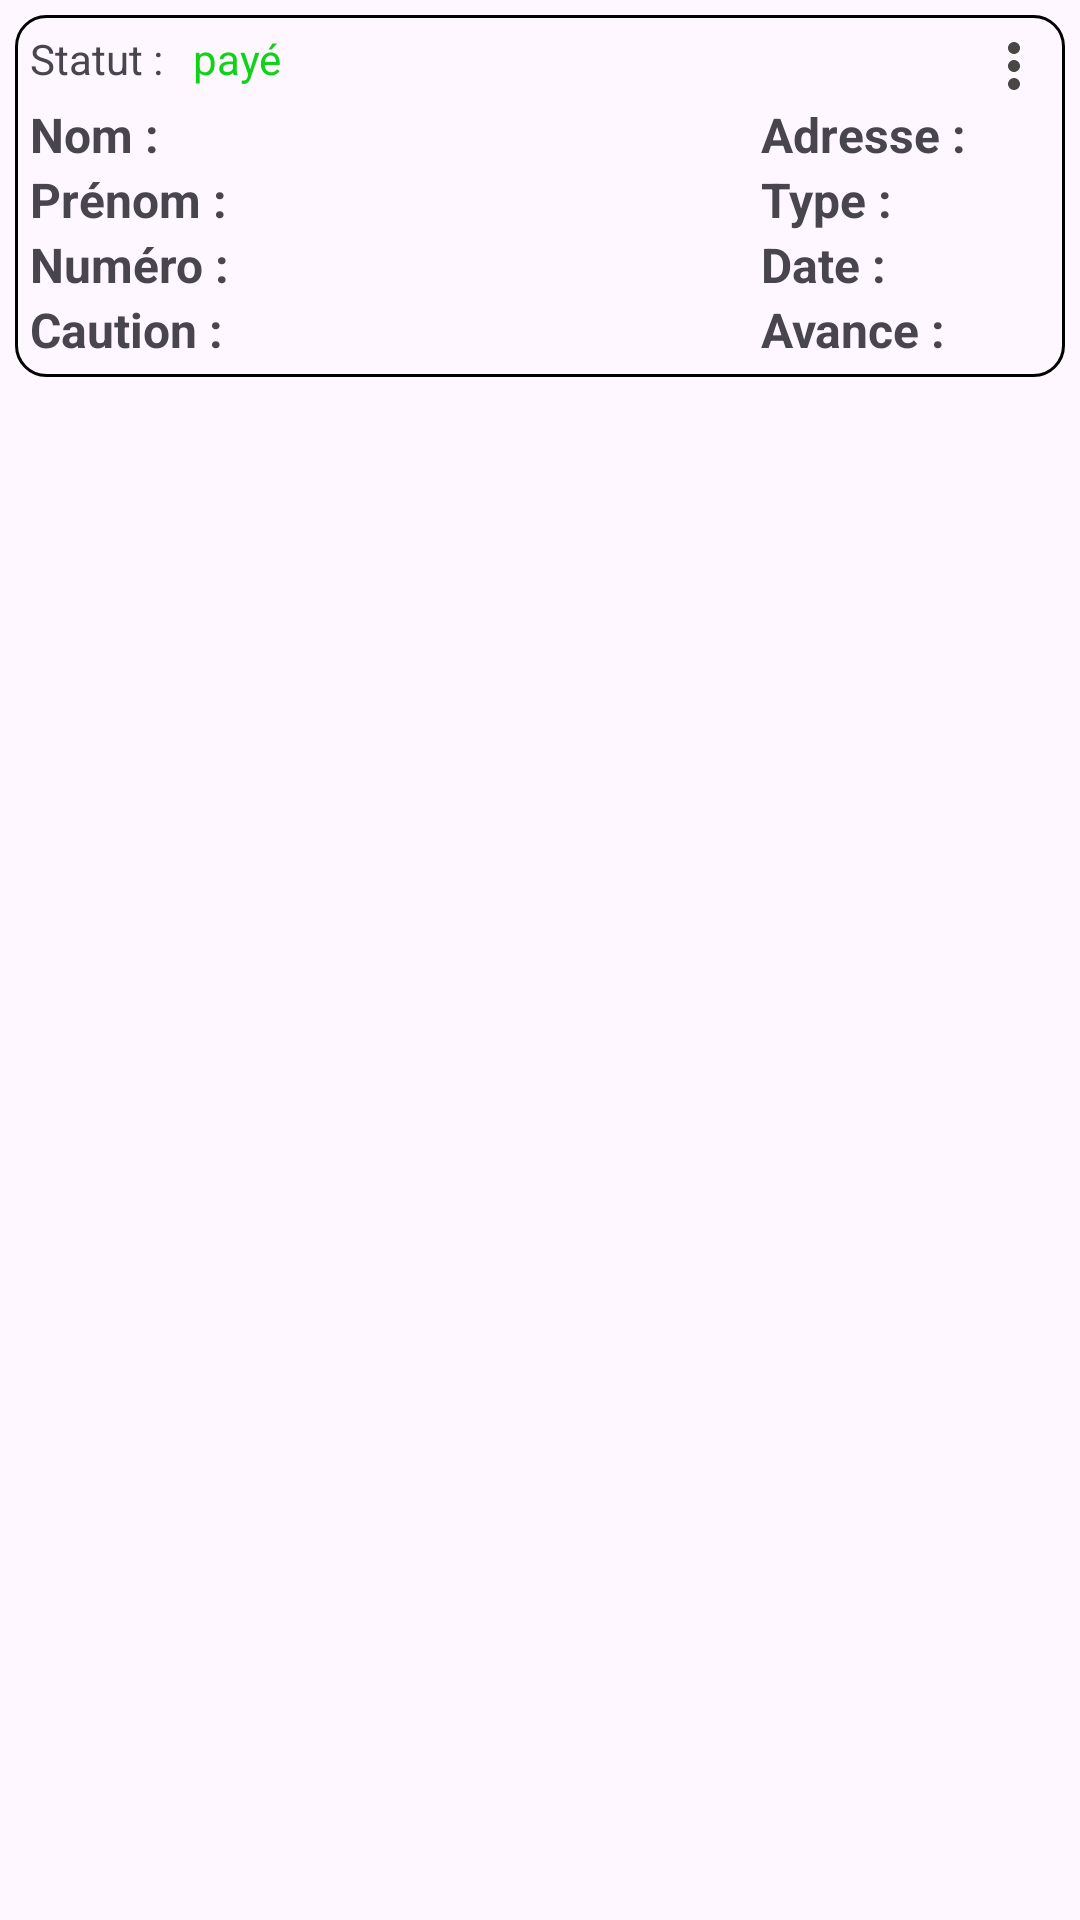

Icon bounding boxes for this 1080px x 1920px phone screenshot, format (x1,y1,x2,y2):
more: (1008,42,1020,90)
